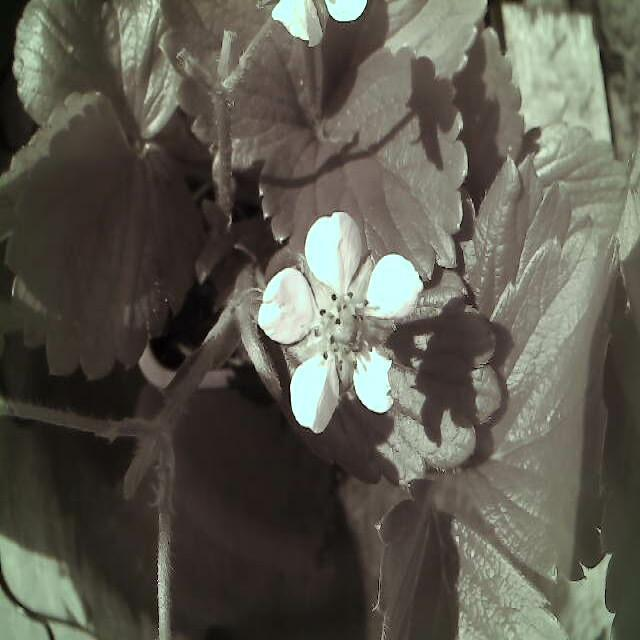flower: (250, 199, 430, 435)
